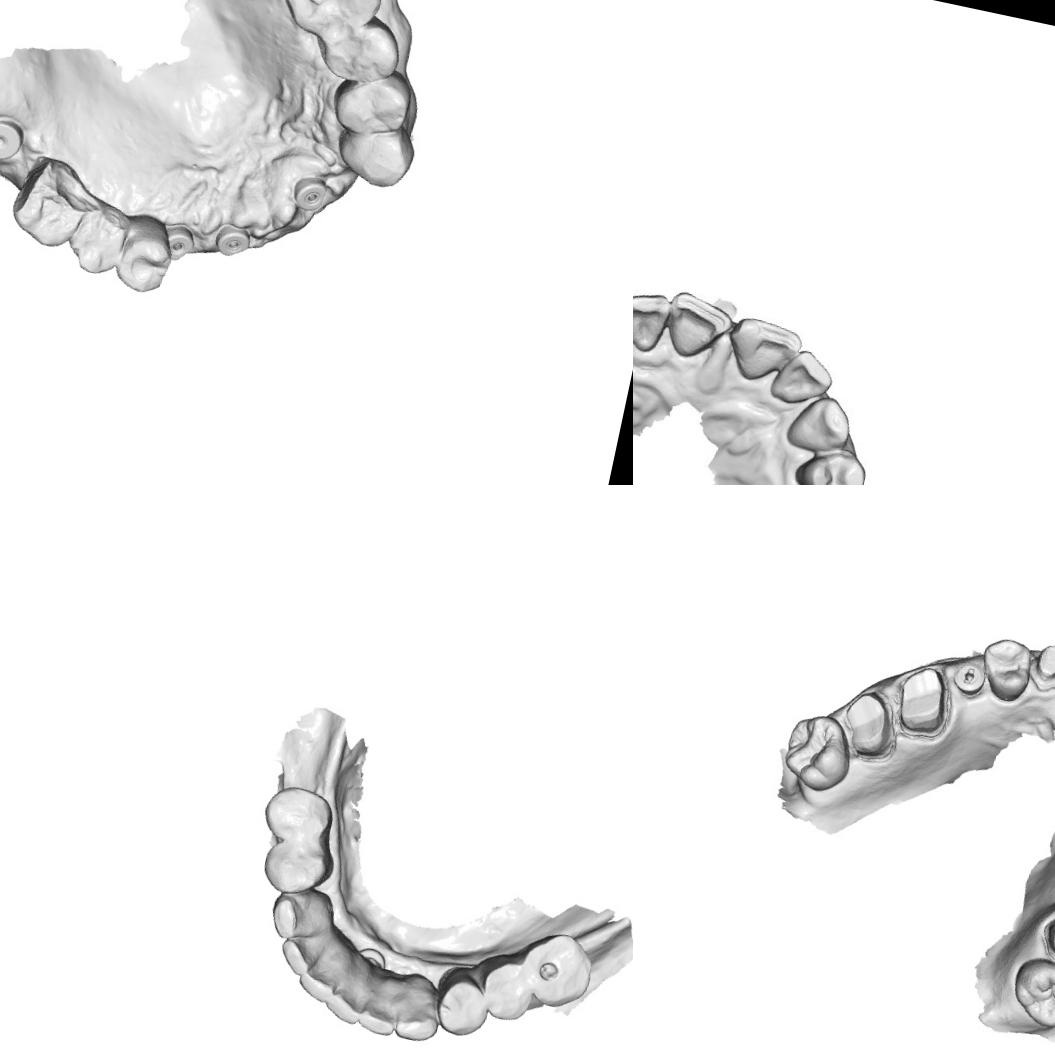canine: (331, 122, 416, 192), (782, 388, 858, 463), (265, 884, 328, 949), (391, 992, 445, 1046)
crown: (891, 660, 956, 740), (836, 686, 902, 763), (1030, 636, 1055, 688), (1038, 901, 1055, 969)
implant: (162, 220, 200, 265), (212, 220, 252, 262), (0, 109, 29, 164), (291, 174, 331, 213)
implant_minus: (950, 658, 988, 699)
incisor: (658, 286, 738, 368), (724, 314, 804, 389), (768, 343, 836, 413), (293, 952, 349, 1008), (270, 928, 323, 981), (633, 285, 672, 356), (356, 989, 406, 1042), (323, 977, 372, 1030)
molar: (3, 151, 95, 255), (776, 708, 860, 799), (515, 926, 599, 1016), (267, 0, 391, 48), (1004, 953, 1055, 1036)
premolar: (328, 61, 418, 145), (321, 9, 407, 90), (112, 212, 180, 300), (66, 194, 135, 280), (258, 780, 337, 850), (973, 628, 1041, 708), (259, 833, 336, 902), (472, 954, 540, 1026), (431, 974, 493, 1038), (789, 440, 876, 485)
